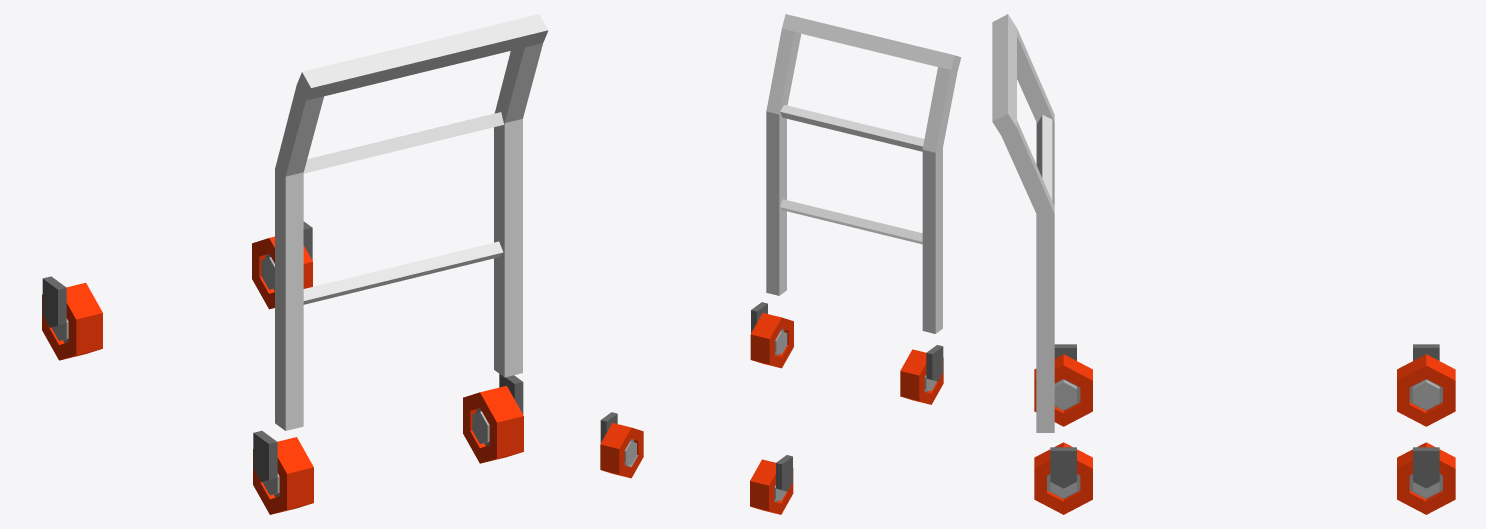
File: ConcreteOnGurma1_3.fbx
3 views of the same model, side by side, from view 1: azimuth 30°, elevation 25°; view 2: azimuth 150°, elevation 25°; view 3: azimuth 270°, elevation 25° (orthographic). The views are drawn at different scales.
Visible parts, largest first — view 1: Cube.001; view 2: Cube.001; view 3: Cube.001.
Part boxes in pixels (x1=…): Cube.001: x1=42, y1=14, x2=548, y2=514; Cube.001: x1=600, y1=14, x2=961, y2=514; Cube.001: x1=992, y1=14, x2=1455, y2=514.
Bounding box in the file's own units: 60 × 97.71 × 106.
